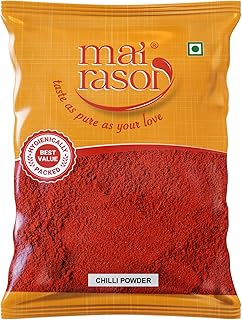Chilli Powder: (2, 1, 242, 320)
